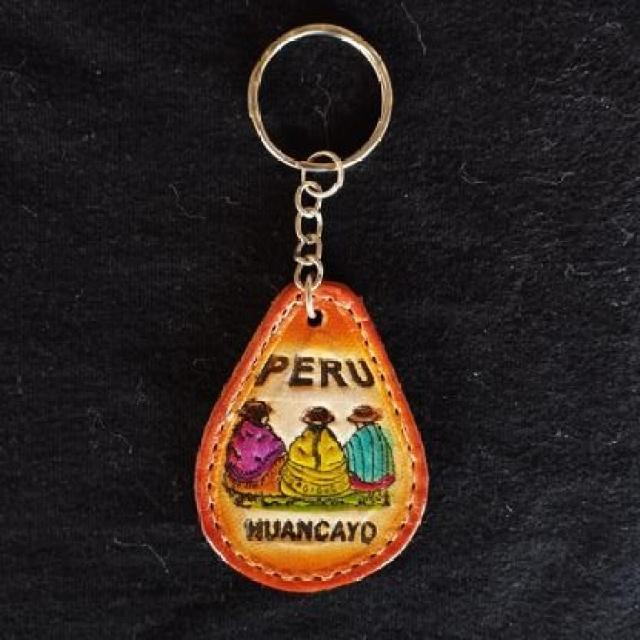Llavero: (193, 278, 430, 593)
